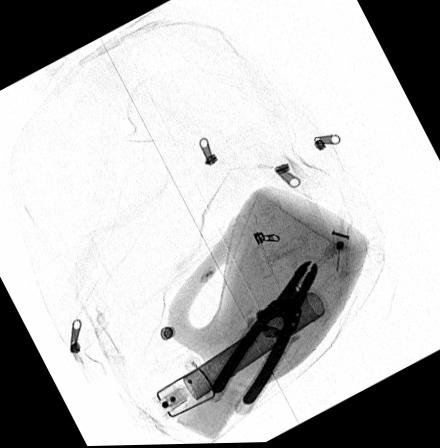Pliers: (208, 261, 318, 407)
